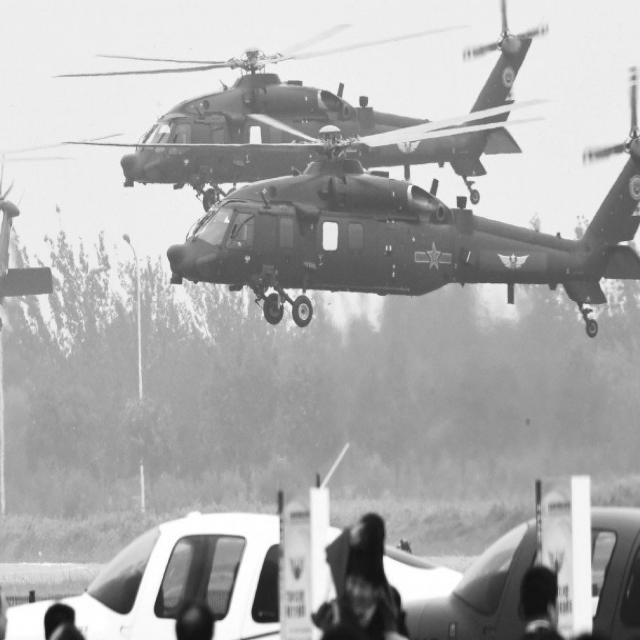helicopter: (178, 81, 640, 354), (124, 1, 548, 197), (1, 118, 56, 325)
